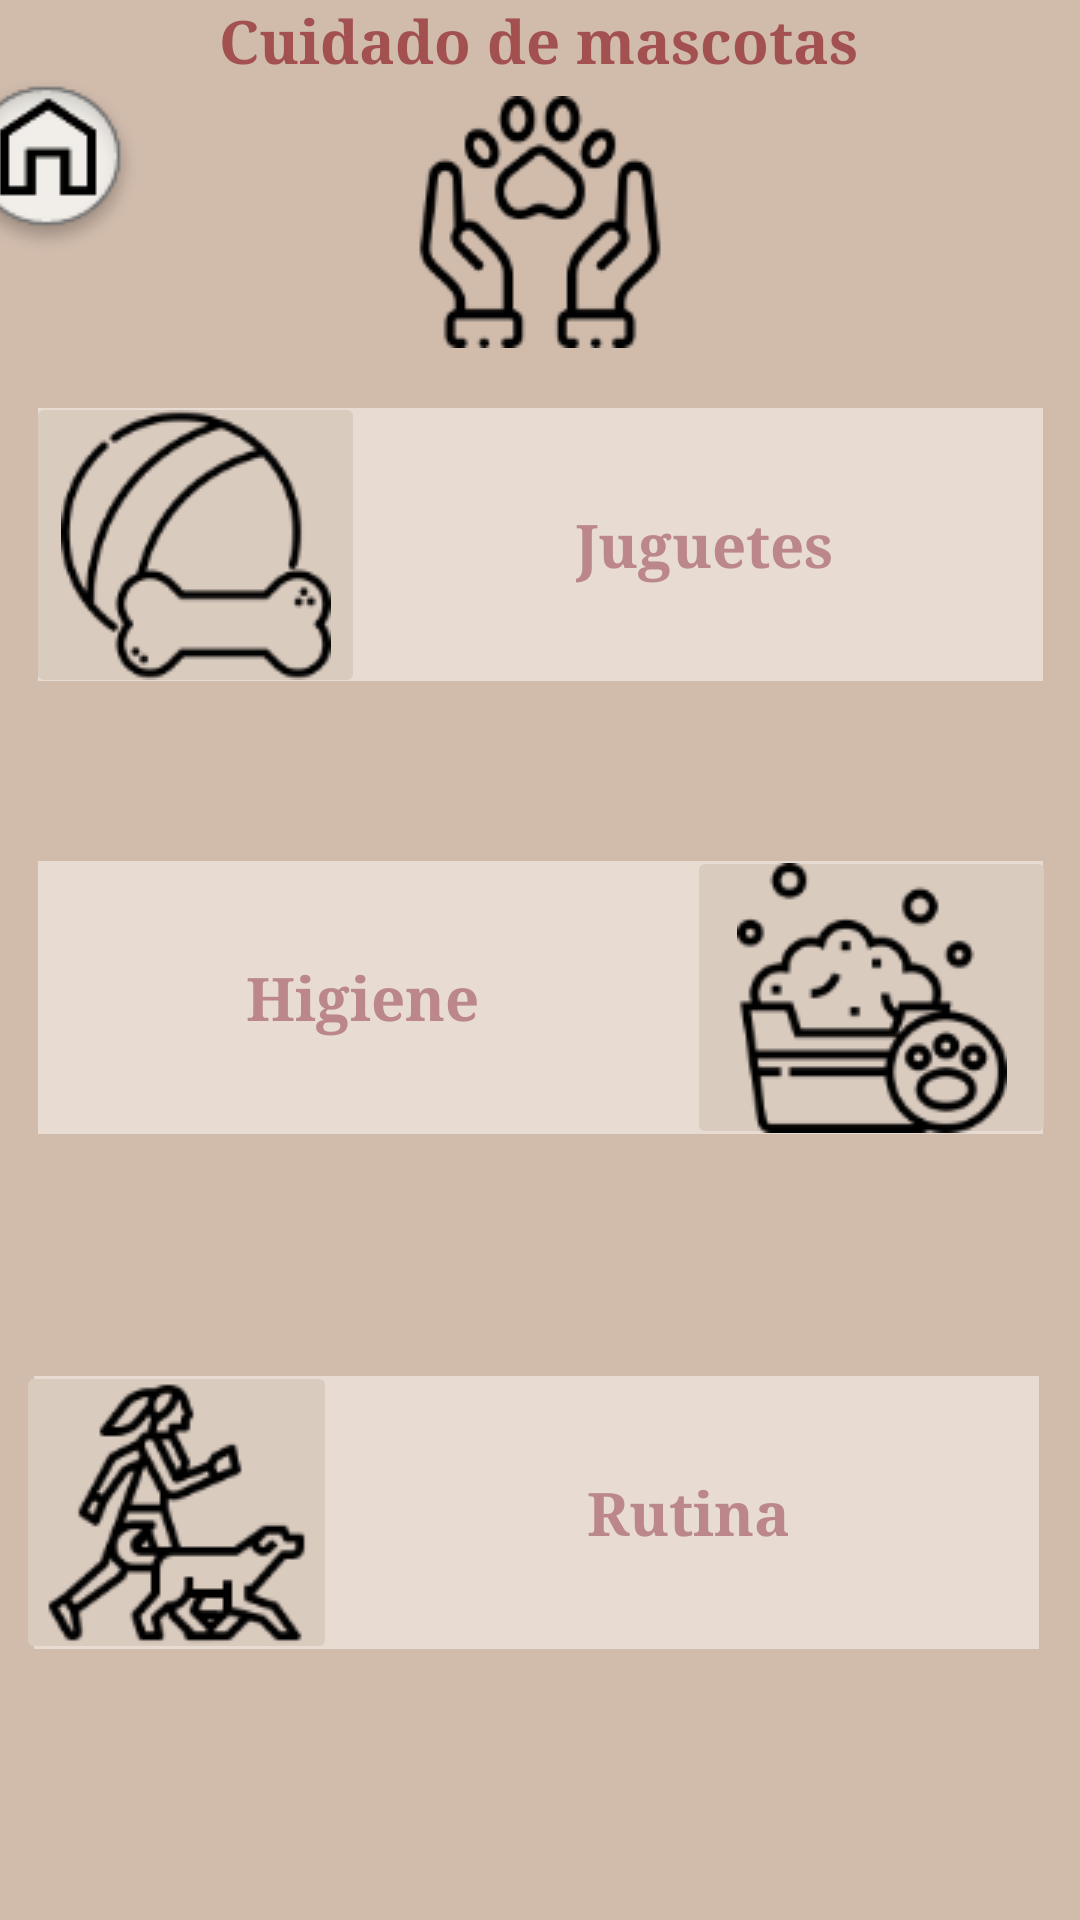

Where icons sit on this 1080*1920 app screen, as (x1, y1, x2, y2):
care: (419, 96, 661, 348)
